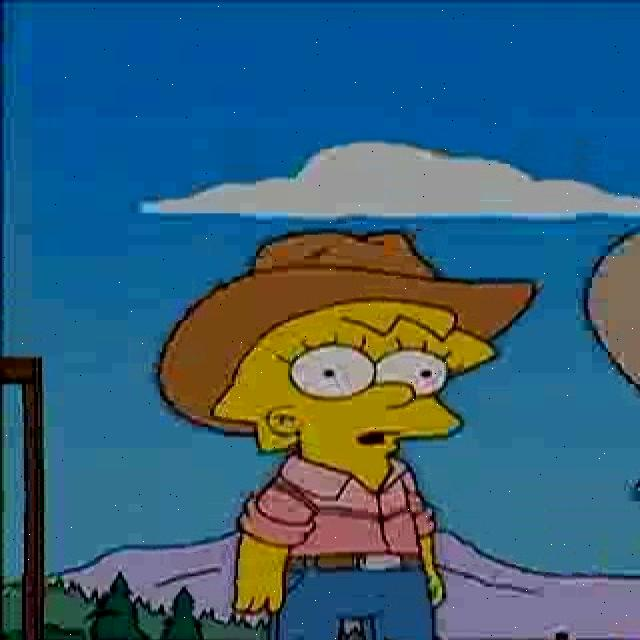Lisa Simpson: (202, 297, 506, 473)
